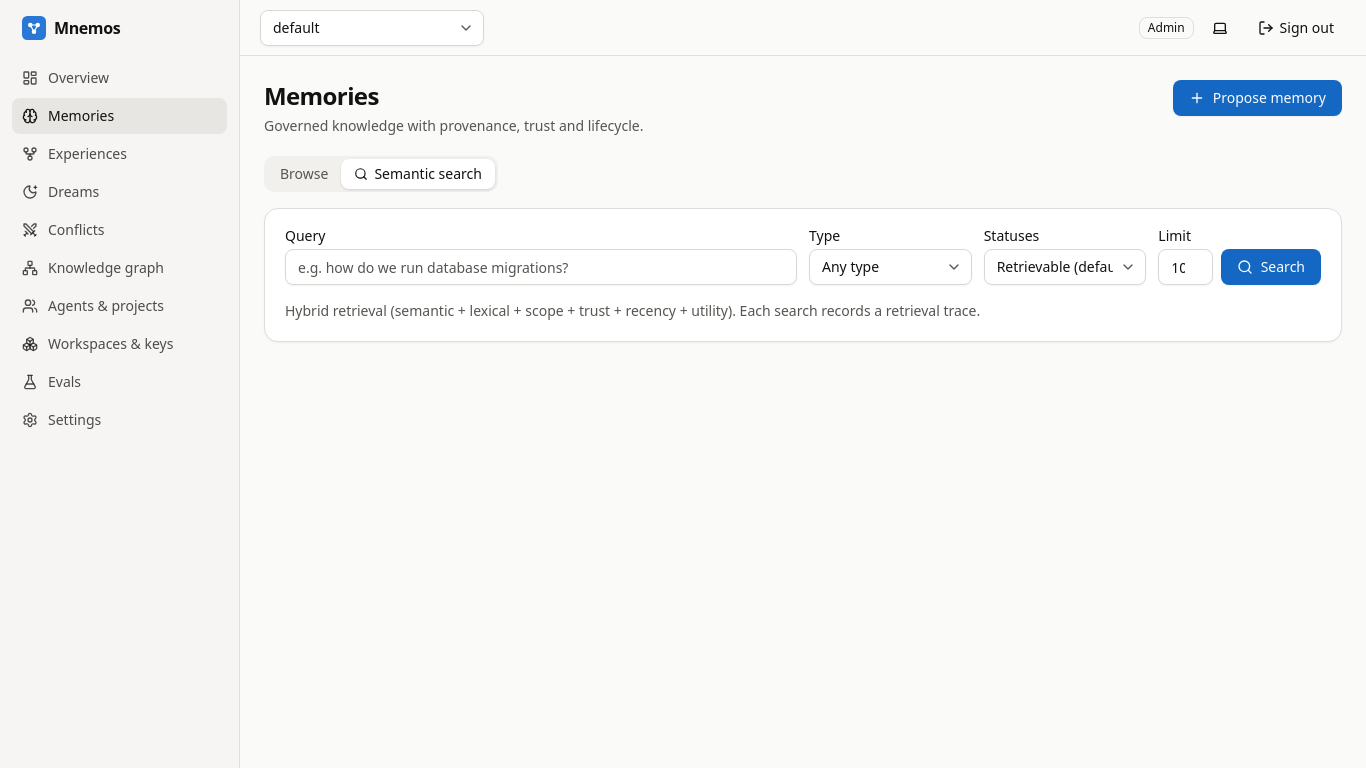
Memories list › runs a semantic search and shows score, breakdown and reasons
The image size is (1366, 768).
Type "how to run tests" into the field with test id "memory-search-input".
click(541, 267); type("how to run tests")  # box x1=285 y1=249 x2=797 y2=285
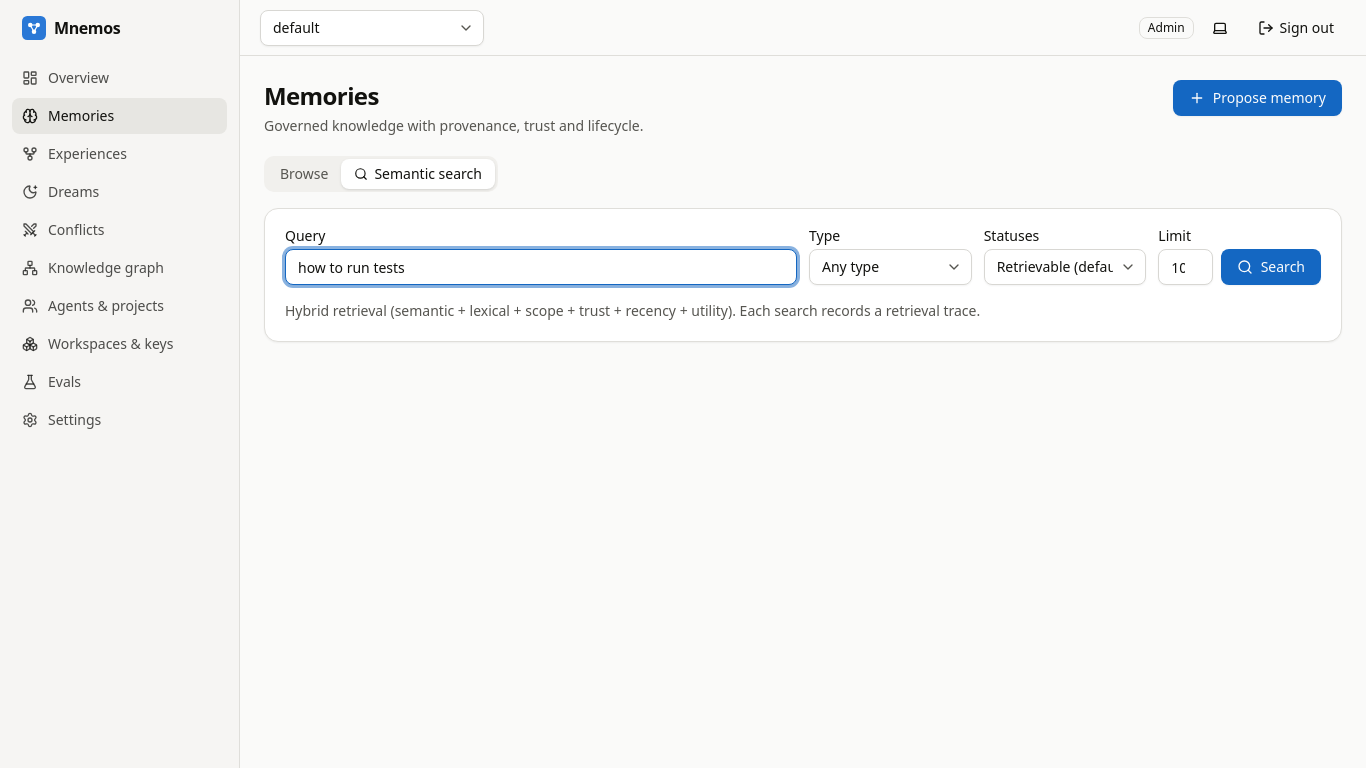
Click the button with test id "memory-search-submit".
click(1271, 267)  # box x1=1221 y1=249 x2=1321 y2=285
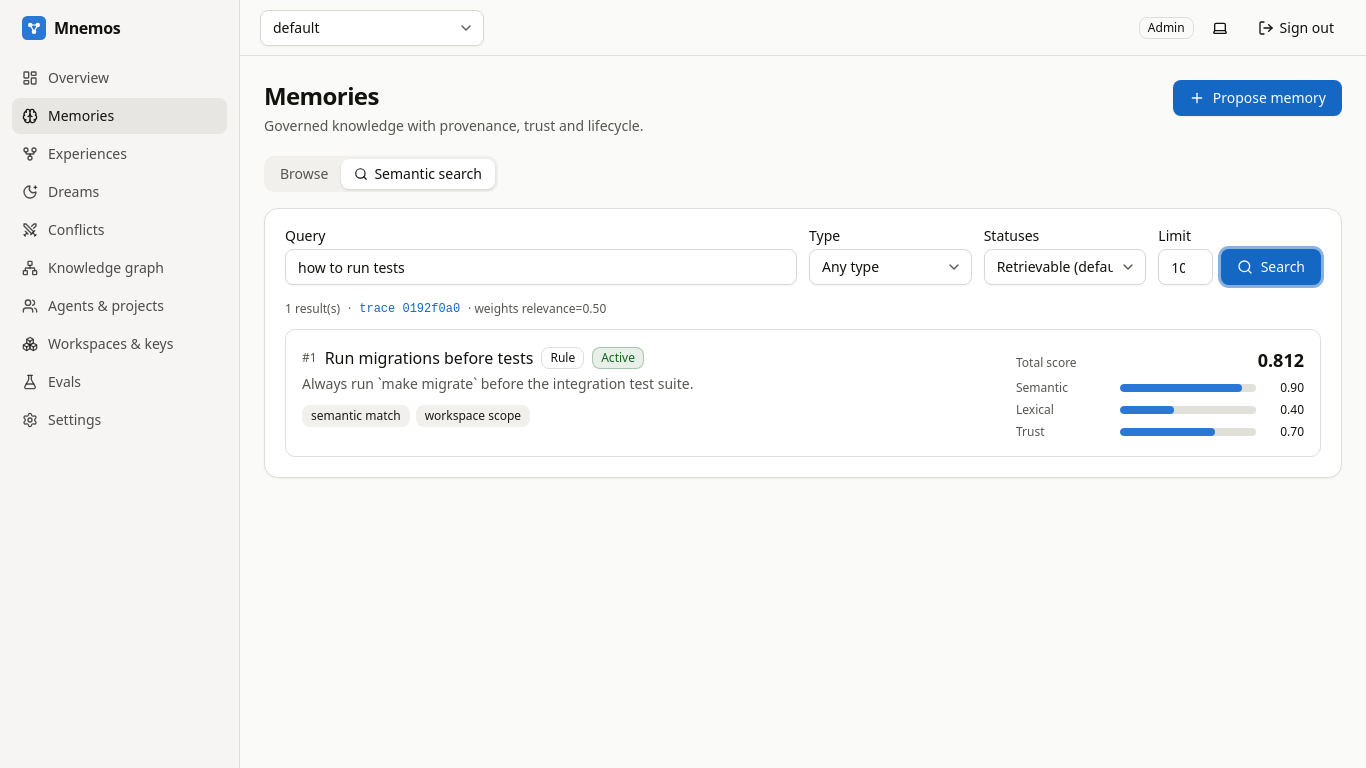
Result: the text with test id "search-result-score" reads "0.812" at x1=1258 y1=348 x2=1304 y2=372
Result: the list with test id "search-result-reasons" shows "semantic match" at x1=311 y1=407 x2=401 y2=424
